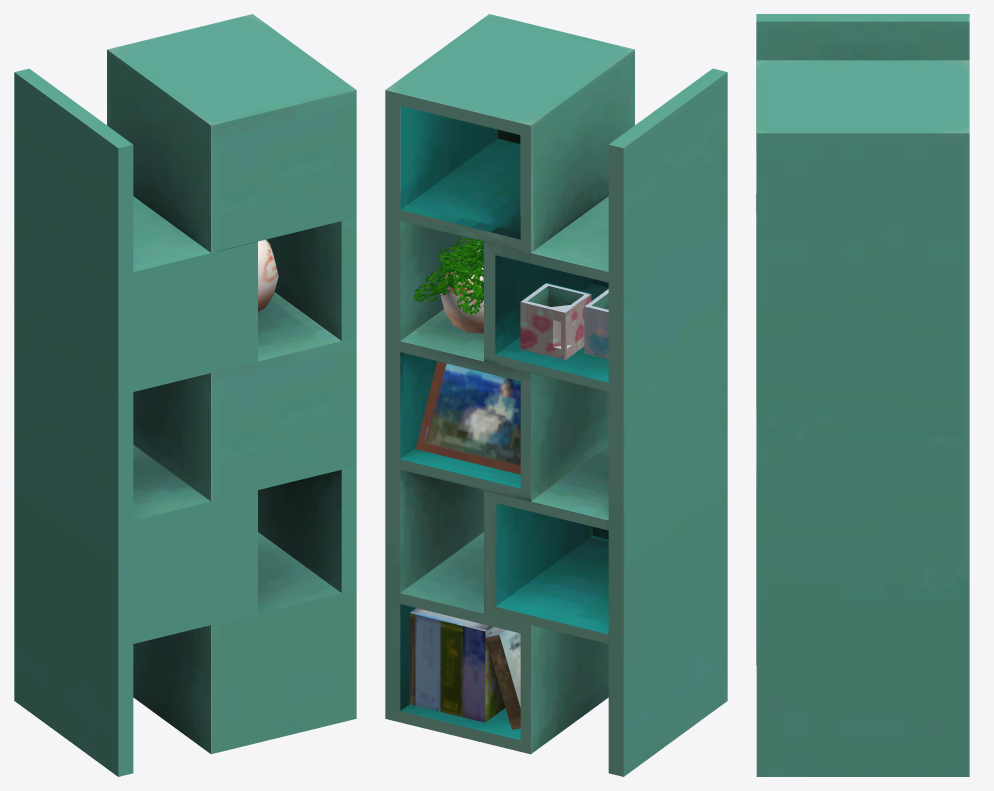
File: furni_0200515_02.FBX
3 views of the same model, side by side, from view 1: azimuth 30°, elevation 25°; view 2: azimuth 150°, elevation 25°; view 3: azimuth 270°, elevation 25° (orthographic). The views are drawn at different scales.
Parts seen in each view (by area): view 1: furni_0200515_02; view 2: furni_0200515_02; view 3: furni_0200515_02.
Part boxes in pixels (bbox=[...]): furni_0200515_02: bbox=[14, 14, 356, 776]; furni_0200515_02: bbox=[385, 14, 727, 776]; furni_0200515_02: bbox=[756, 14, 969, 776].
Bounding box in the file's own units: 79.4 × 200 × 62.79.
Materials: 1 (1 with a texture image).
